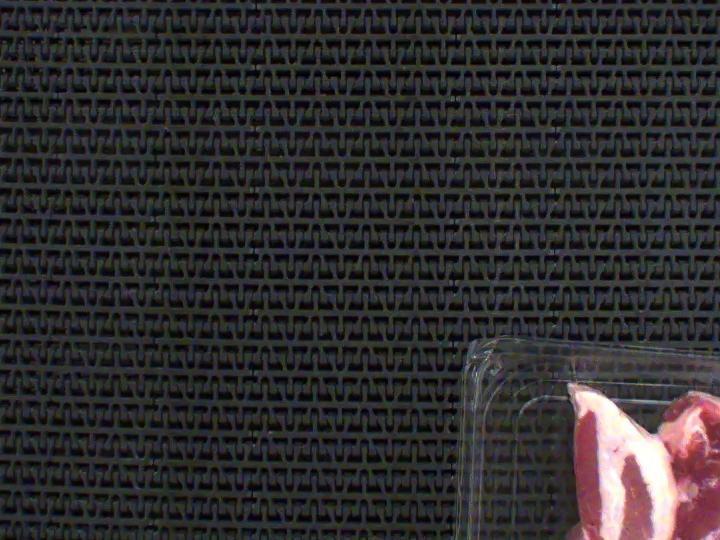packaging-error: (558, 354, 588, 389), (707, 376, 720, 410)
